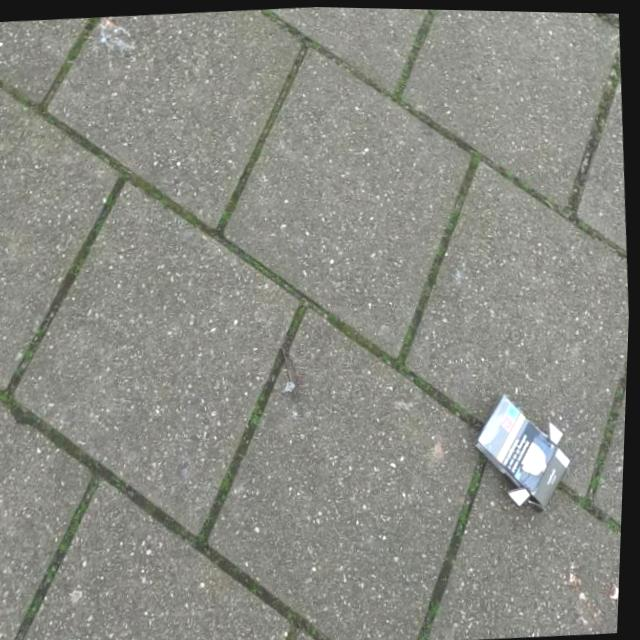Paper: (471, 384, 581, 517)
